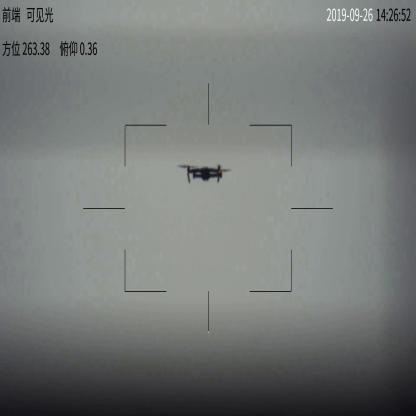uav: (180, 161, 231, 185)
